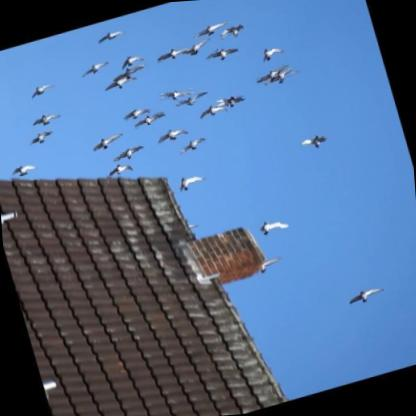bird: (254, 67, 303, 91), (128, 108, 171, 135), (105, 61, 151, 86), (343, 282, 388, 307), (201, 42, 243, 68), (252, 62, 293, 87), (156, 82, 197, 107), (189, 20, 232, 43), (178, 36, 217, 61), (295, 129, 333, 154), (170, 135, 211, 158), (108, 142, 149, 165), (255, 215, 294, 239), (212, 89, 248, 115), (156, 42, 193, 66), (172, 169, 209, 193), (154, 125, 191, 149), (102, 73, 142, 94), (75, 57, 113, 79), (24, 126, 58, 150), (89, 133, 126, 155), (27, 109, 63, 131), (195, 101, 229, 123), (105, 160, 136, 184), (216, 23, 249, 45), (90, 27, 126, 47), (8, 160, 40, 182), (254, 256, 287, 277), (117, 51, 148, 72), (121, 104, 153, 124), (27, 80, 59, 100), (257, 42, 286, 64), (175, 91, 210, 109)
